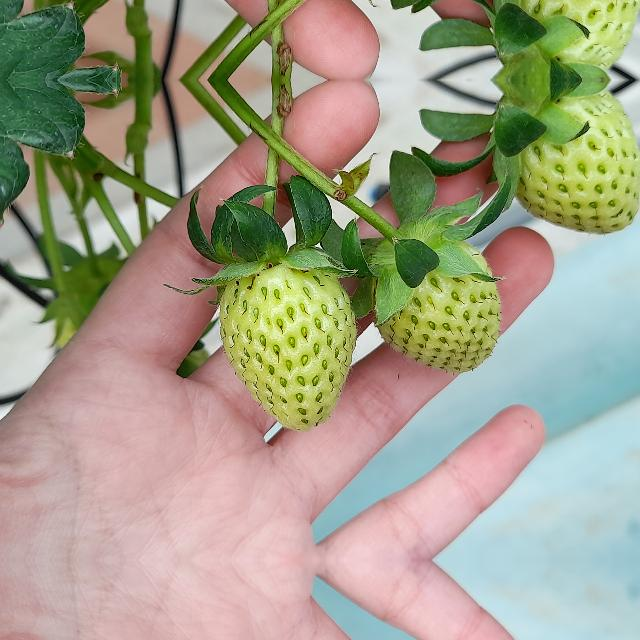Health_25: (220, 263, 356, 432), (501, 91, 639, 243), (368, 238, 504, 370), (501, 0, 639, 69)
